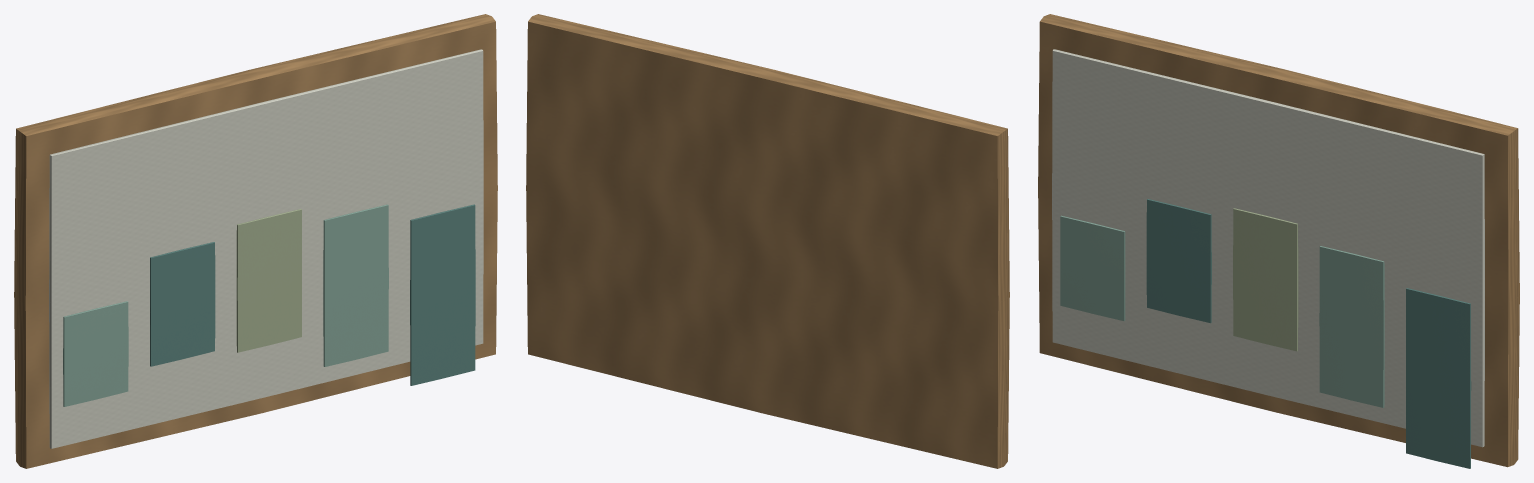
The model's file is wall-art.glb.
3 renders of one model, left to right at view 1: azimuth 30°, elevation 25°; view 2: azimuth 150°, elevation 25°; view 3: azimuth 330°, elevation 25°, orthographic.
Visible parts, largest first — view 1: wall-art; view 2: wall-art; view 3: wall-art.
Boxes of the visible parts, x1,y1,x2,y2 form: wall-art: (14,14,497,468); wall-art: (526,14,1009,468); wall-art: (1038,14,1519,468).
Size of the model in its own units: 0.66 by 0.45 by 0.0515.
7 materials, 7 textured.
